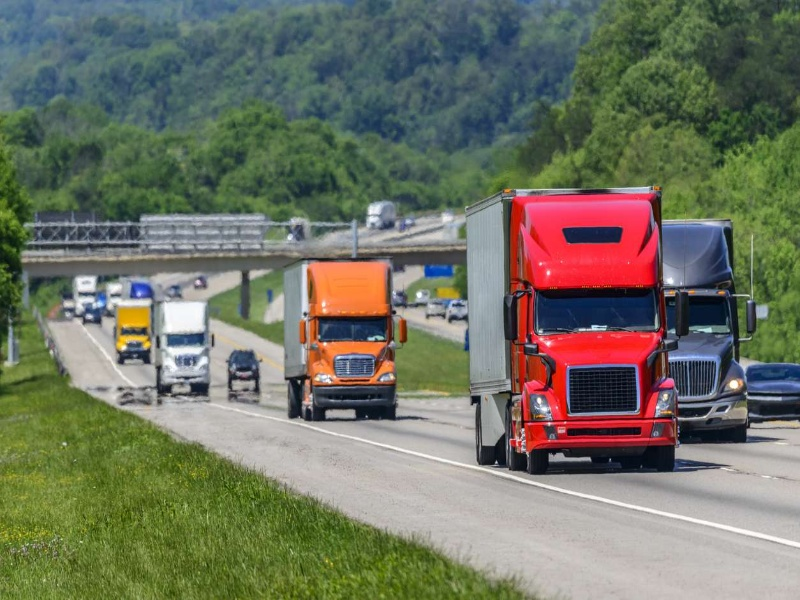semi: (428, 180, 690, 479), (652, 206, 756, 445), (277, 248, 404, 424), (146, 298, 215, 398)
